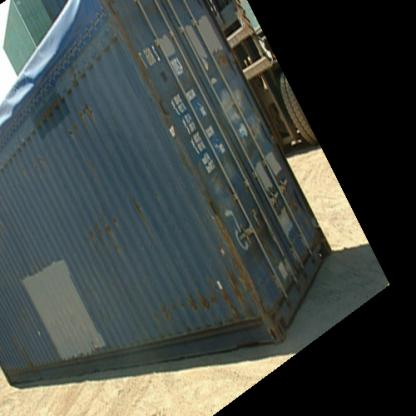Damage: (145, 286, 238, 316), (94, 208, 125, 258), (68, 96, 101, 128), (15, 342, 44, 372), (131, 191, 150, 230), (85, 326, 105, 356)
